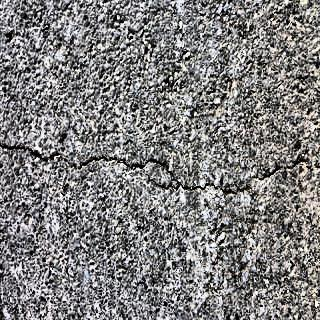crack: (1, 140, 319, 198)
